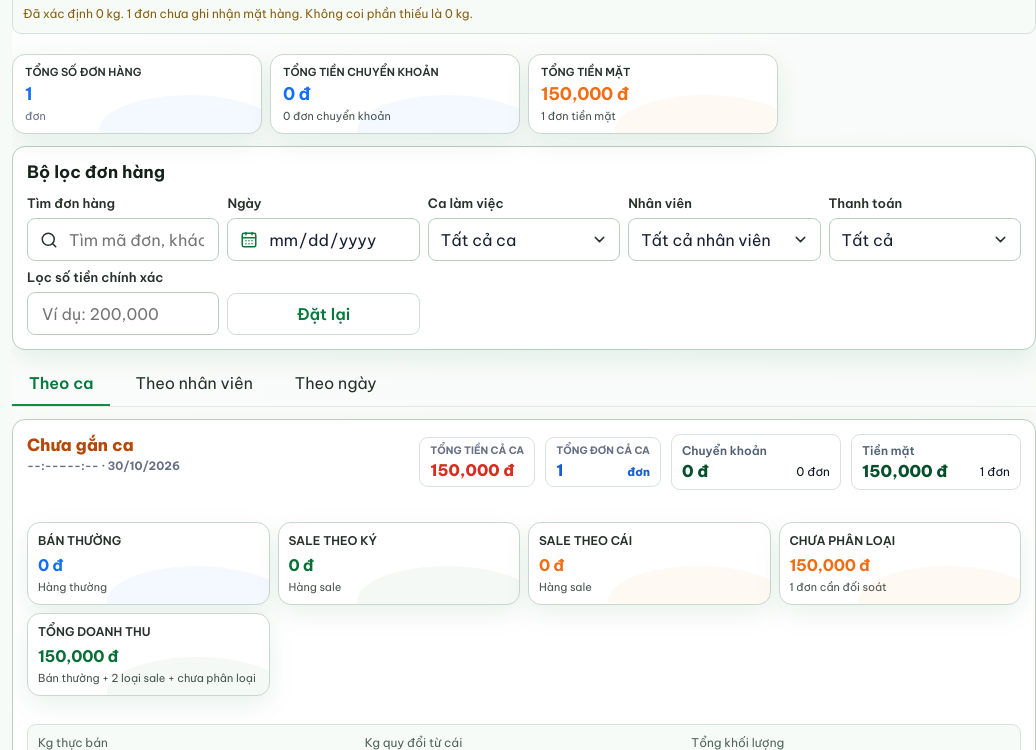
Test case: store order, attendance, and payroll summaries › tags a support employee in both order rows and employee grouping headings
(page scrolled)
What coordinates should you click on to do the following:
click the button "Theo nhân viên"
I would click on:
 (194, 384)
Its box is [118,362,270,406].
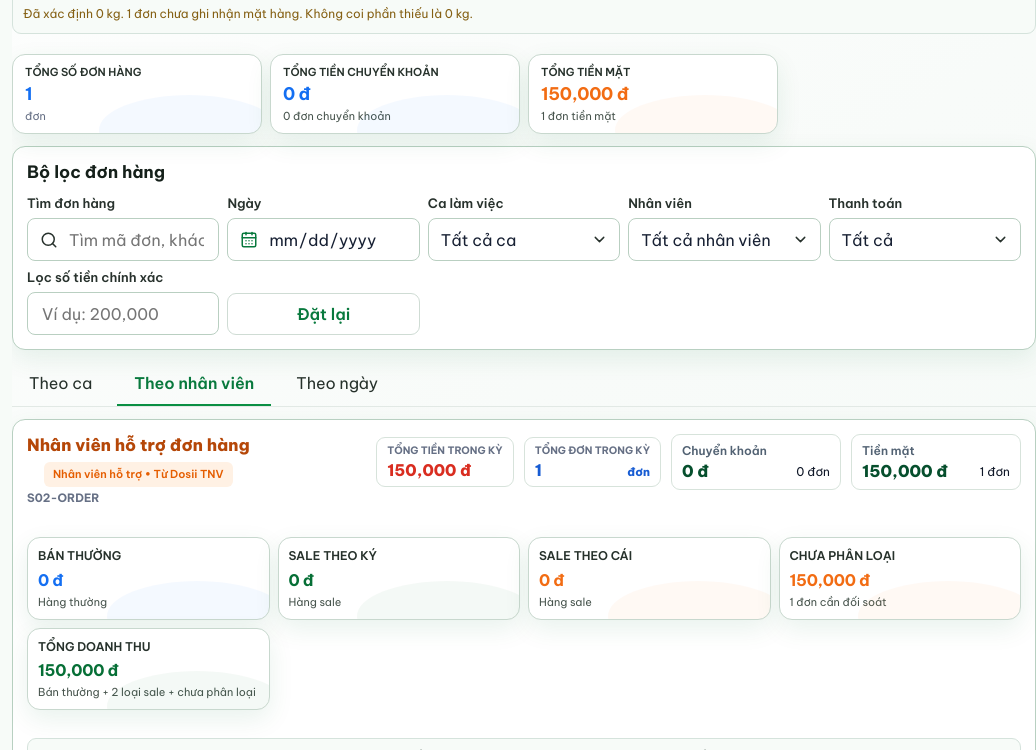
Result: the text "Nhân viên hỗ trợ • Từ Dosii TNV" is shown 2 times
